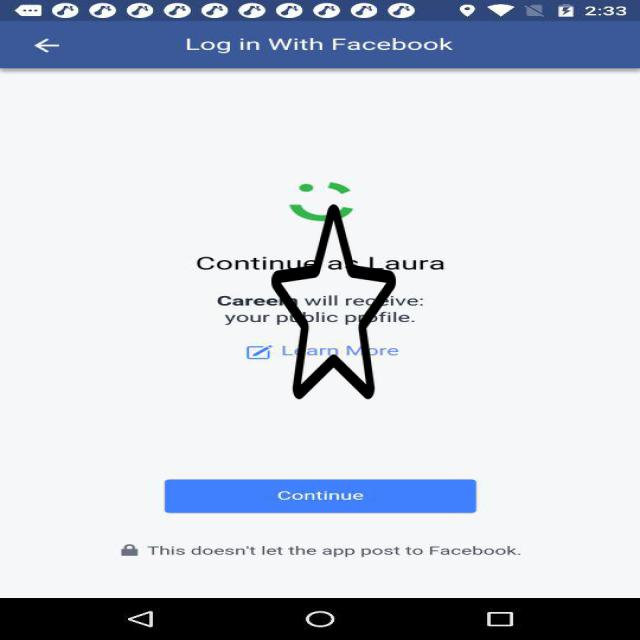forced continuity: (271, 200, 396, 403)
